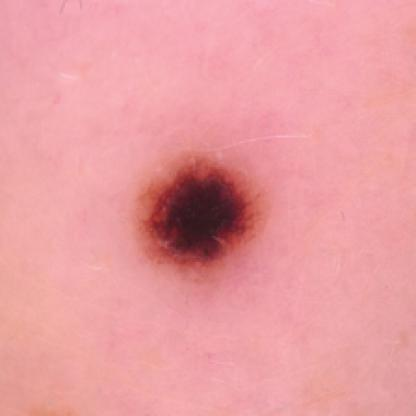benign: (130, 156, 288, 279)
